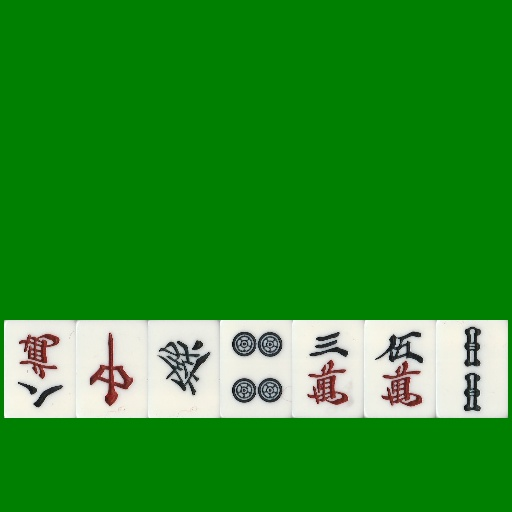2s: (436, 320, 508, 418)
3m: (292, 320, 364, 418)
4p: (220, 320, 292, 418)
5m: (364, 320, 436, 418)
8m: (4, 320, 76, 418)
hatsu: (148, 320, 220, 418)
tyun: (76, 320, 148, 418)
